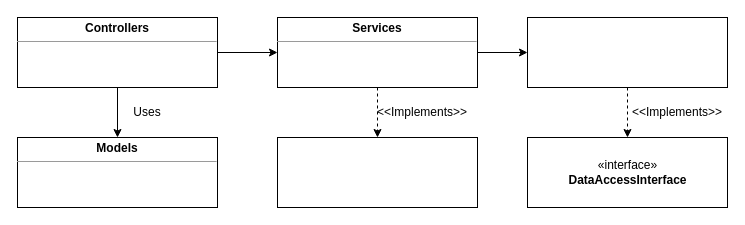
This 745x225 diagram has some shape labels left out. The centre of each missing label's shape, as x and y in pixels:
DAOs: point 627,52
«interface» BusinessInterfaces: point 377,172
